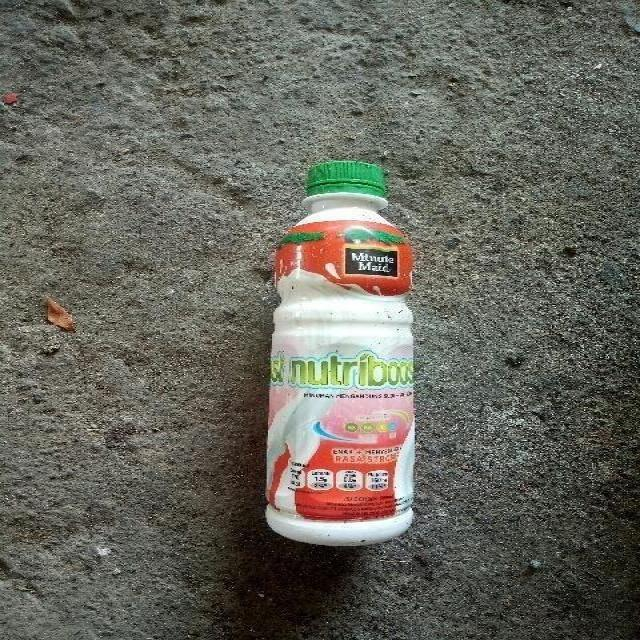bottle-plastic: (263, 156, 420, 548)
